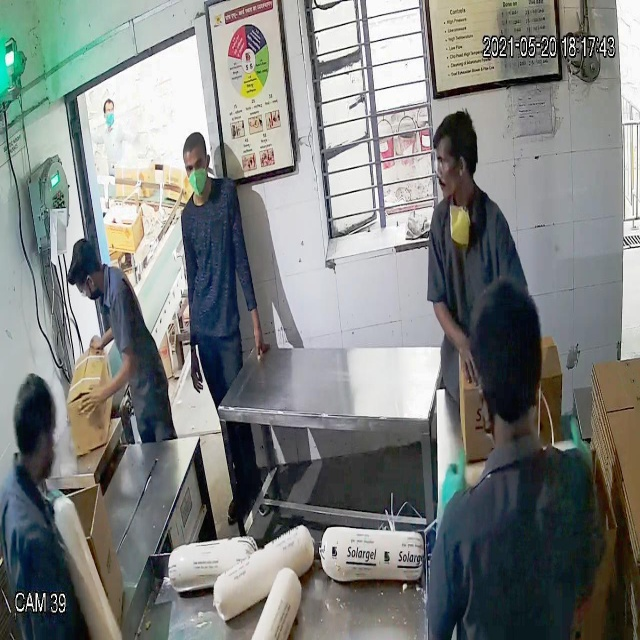Gafas: (426, 145, 477, 179)
Sin_gafas: (182, 150, 208, 176)
